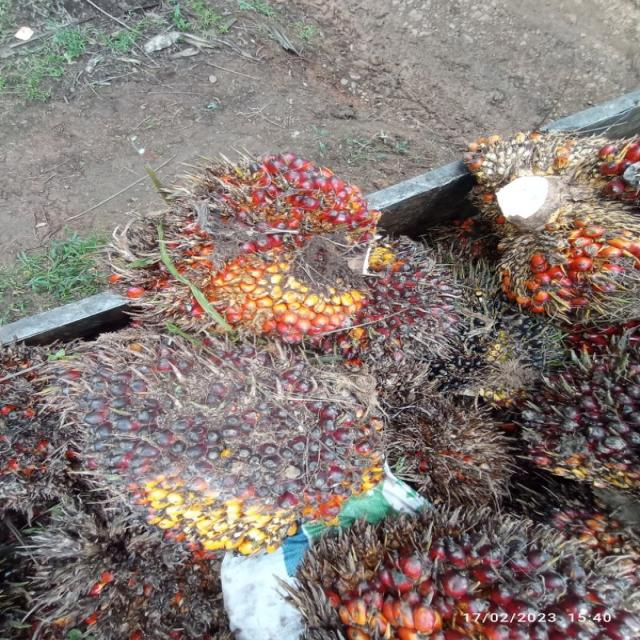fraksi 00: (274, 477, 620, 640), (498, 326, 640, 508)
fraksi 1: (29, 265, 427, 586)
fraksi 3: (83, 104, 420, 338)
